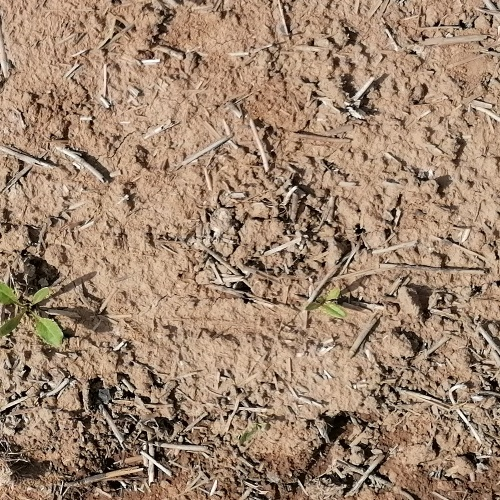beet: (0, 285, 63, 348), (302, 290, 351, 320)
